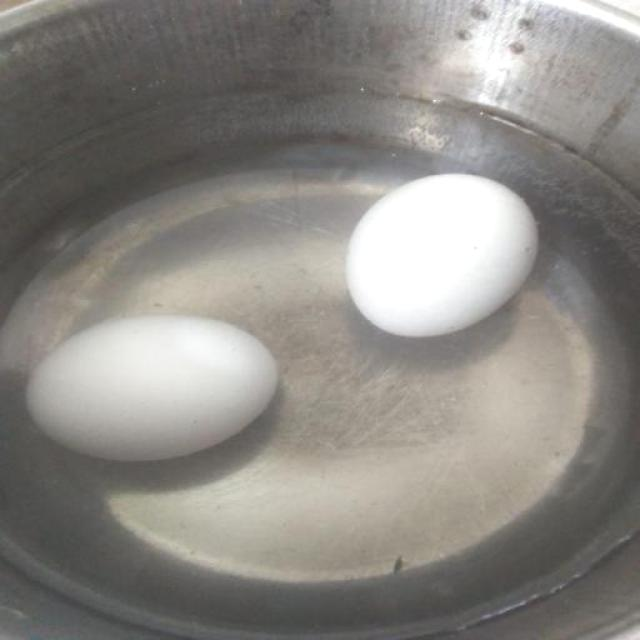telur: (27, 316, 275, 464), (345, 173, 536, 338)
